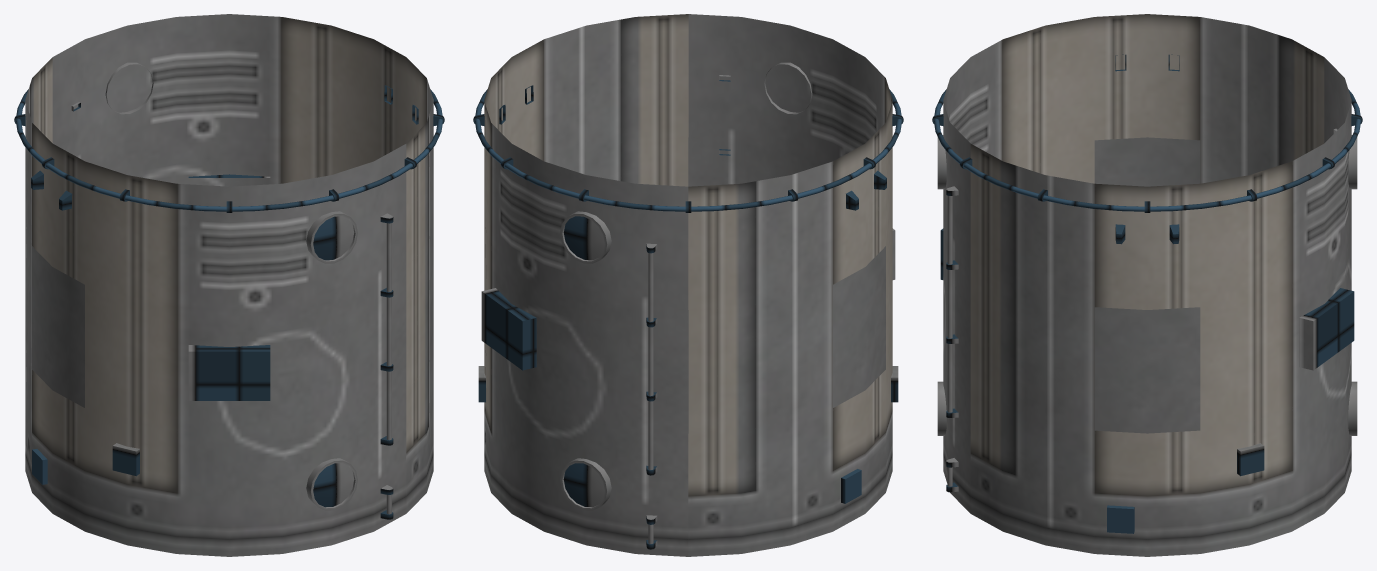
Rendered from priroda_core_naked_plain.obj.
The picture shows the model from 3 angles, left to right: view 1: azimuth 30°, elevation 25°; view 2: azimuth 150°, elevation 25°; view 3: azimuth 270°, elevation 25°; orthographic projection.
Visible parts, largest first — view 1: 1, w1; view 2: 1, w1; view 3: 1.
Boxes of the visible parts, <box> form: 1: <box>14,14,444,556</box>; w1: <box>313,216,354,507</box>; 1: <box>473,14,903,556</box>; w1: <box>563,216,604,507</box>; 1: <box>932,14,1362,556</box>.
Bounding box in the file's own units: 1.98 × 1.88 × 1.98.
